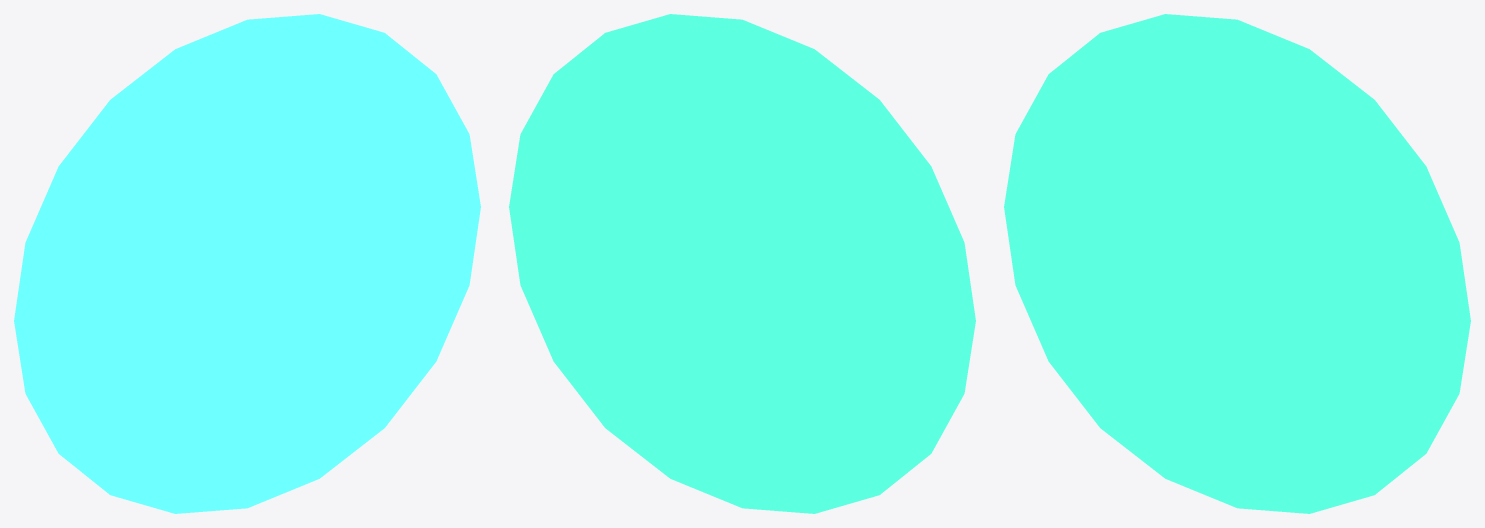
Rendered from lx_msl_lit_green.glb.
The picture shows the model from 3 angles, left to right: view 1: azimuth 30°, elevation 25°; view 2: azimuth 150°, elevation 25°; view 3: azimuth 330°, elevation 25°; orthographic projection.
Parts seen in each view (by area): view 1: SM_lx_msl_lit_green; view 2: SM_lx_msl_lit_green; view 3: SM_lx_msl_lit_green.
Boxes of the visible parts, box(x1,y1,x2,y2) form: SM_lx_msl_lit_green: box(14, 14, 480, 513); SM_lx_msl_lit_green: box(509, 14, 975, 513); SM_lx_msl_lit_green: box(1004, 14, 1470, 513).
Size of the model in its own units: 0.132 by 0.132 by 0.
